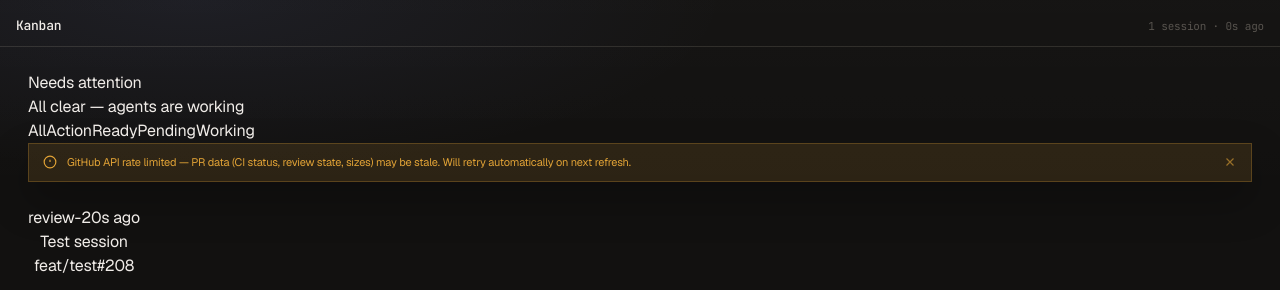
Dashboard mobile layout › shows and dismisses the rate limit banner
Expected: the text "GitHub API rate limited" is shown, [67,155,631,169]
What coordinates should you click on to do the following:
click the button named "Dismiss"
I would click on:
 (1230, 162)
Its box is [1223,155,1237,169].
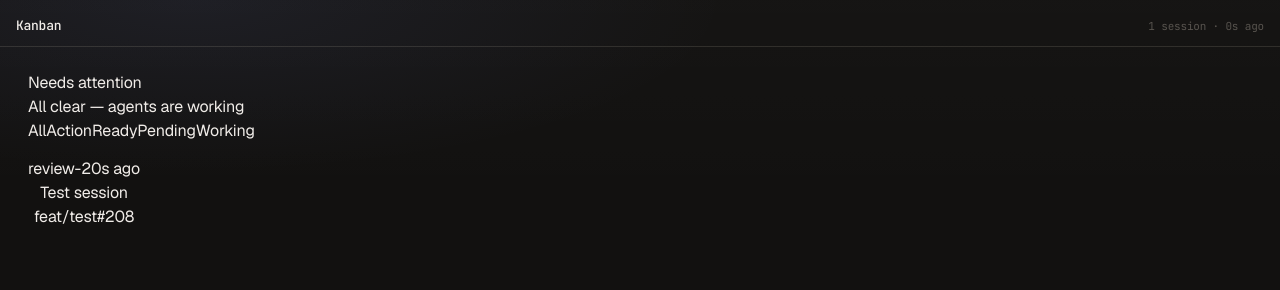
Result: the text "GitHub API rate limited" is gone
